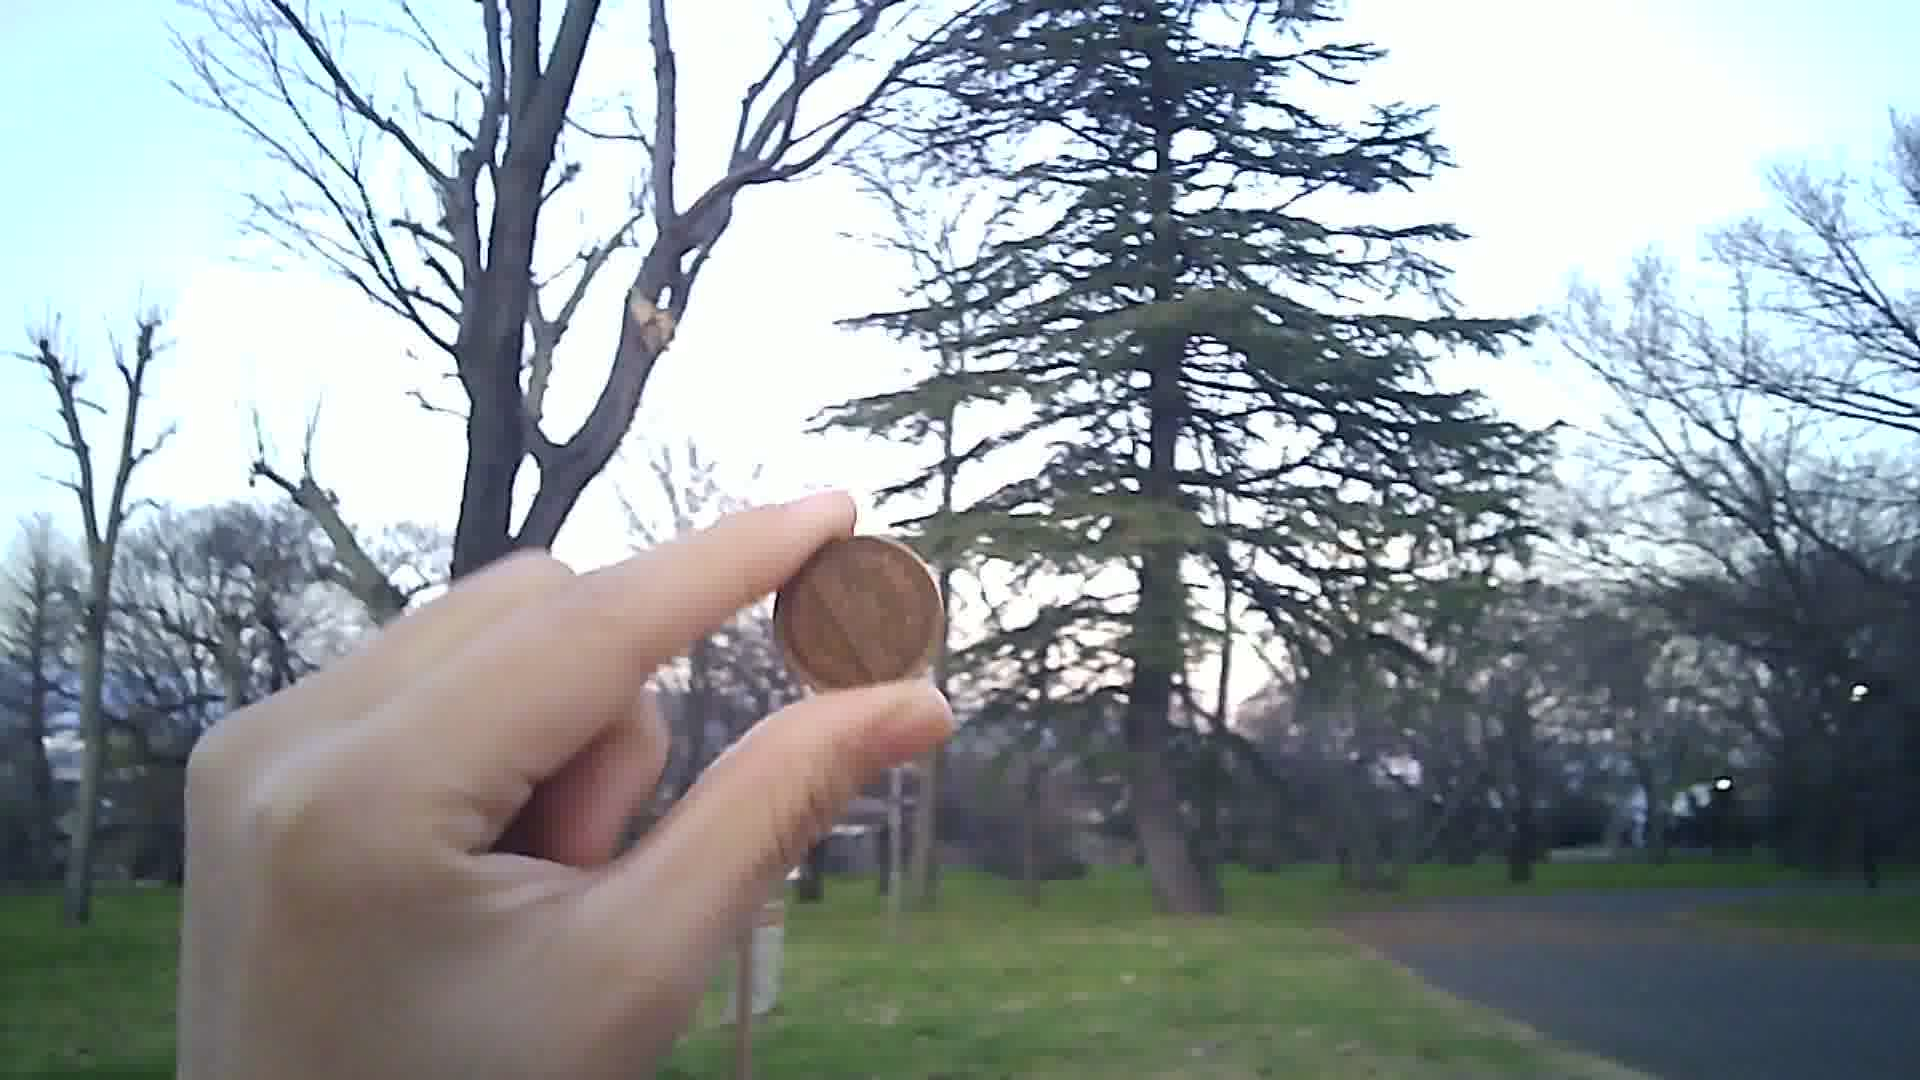10 Yen: (769, 530, 945, 702)
